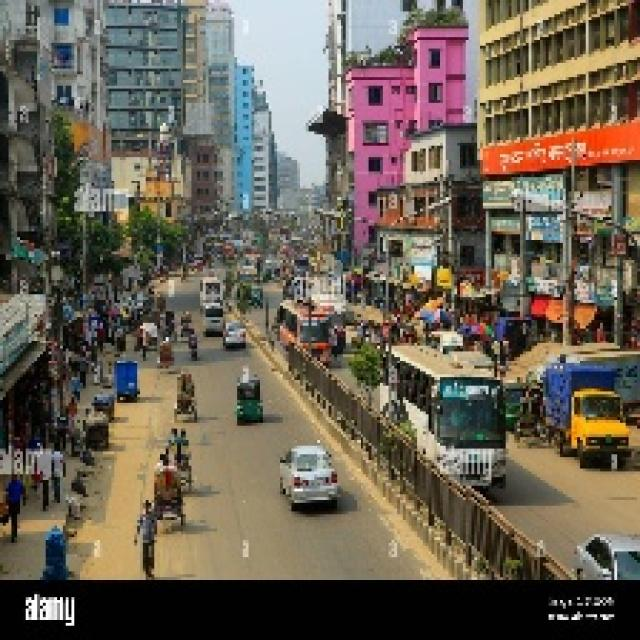car: (270, 439, 342, 511), (574, 529, 636, 585), (196, 302, 225, 334), (222, 318, 248, 348), (178, 264, 190, 282)
rickshaw: (148, 460, 187, 530), (511, 388, 548, 446), (173, 369, 198, 422), (165, 434, 195, 477), (157, 338, 177, 373)
